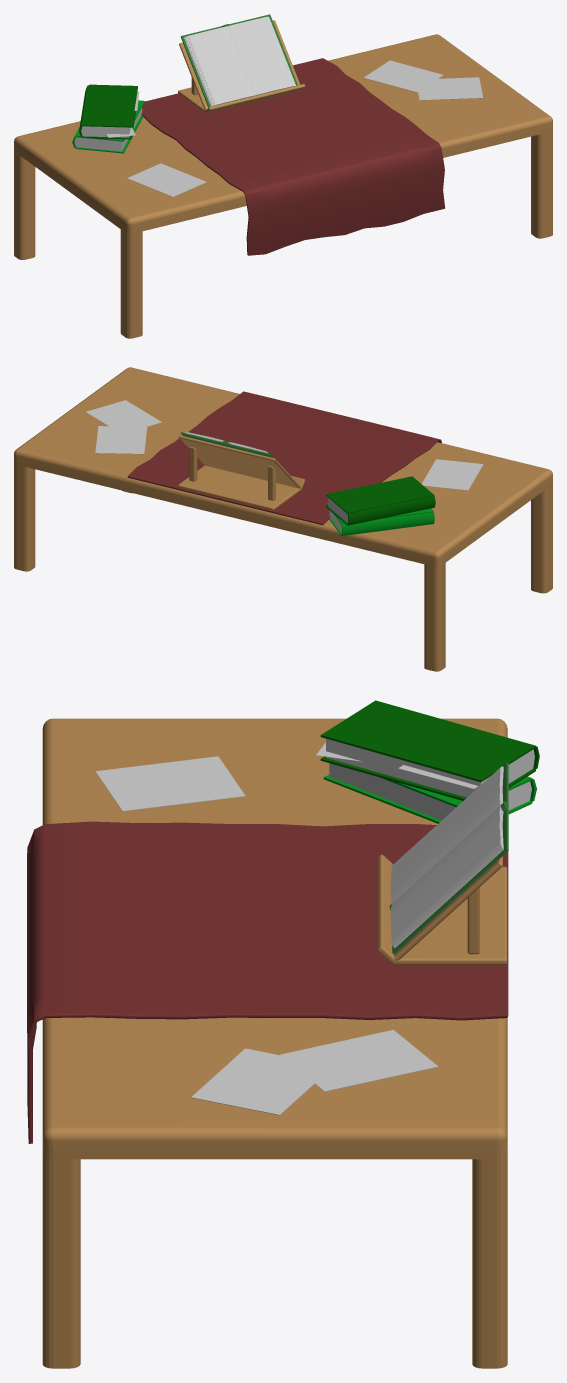
Rendered from SM_Crafting_Table_V6.fbx.
The picture shows the model from 3 angles, top to bottom: view 1: azimuth 30°, elevation 25°; view 2: azimuth 150°, elevation 25°; view 3: azimuth 270°, elevation 25°; orthographic projection. The views are drawn at different scales.
Parts seen in each view (by area): view 1: SM_Crafting_Table_V4; view 2: SM_Crafting_Table_V4; view 3: SM_Crafting_Table_V4.
Boxes of the visible parts, bbox=[...] form: SM_Crafting_Table_V4: bbox=[14, 14, 552, 338]; SM_Crafting_Table_V4: bbox=[14, 367, 552, 671]; SM_Crafting_Table_V4: bbox=[27, 700, 539, 1368].
Size of the model in its own units: 151 by 60.21 by 78.32.
